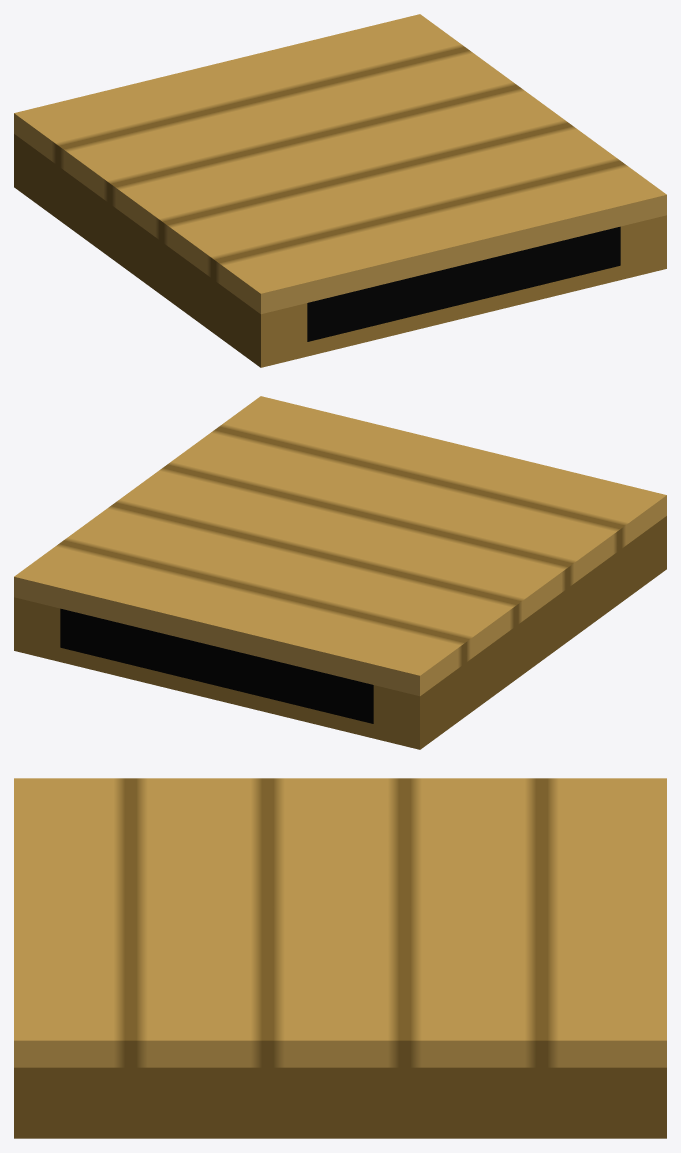
Rendered from SM_Pallet_01.fbx.
3 renders of one model, top to bottom at view 1: azimuth 30°, elevation 25°; view 2: azimuth 150°, elevation 25°; view 3: azimuth 270°, elevation 25°, orthographic. The views are drawn at different scales.
Parts seen in each view (by area): view 1: SM_Pallet_01; view 2: SM_Pallet_01; view 3: SM_Pallet_01.
Boxes of the visible parts, x1,y1,x2,y2 form: SM_Pallet_01: (14, 14, 666, 367); SM_Pallet_01: (14, 396, 666, 749); SM_Pallet_01: (14, 778, 666, 1138).
Size of the model in its own units: 2.01 by 0.351 by 2.12.
